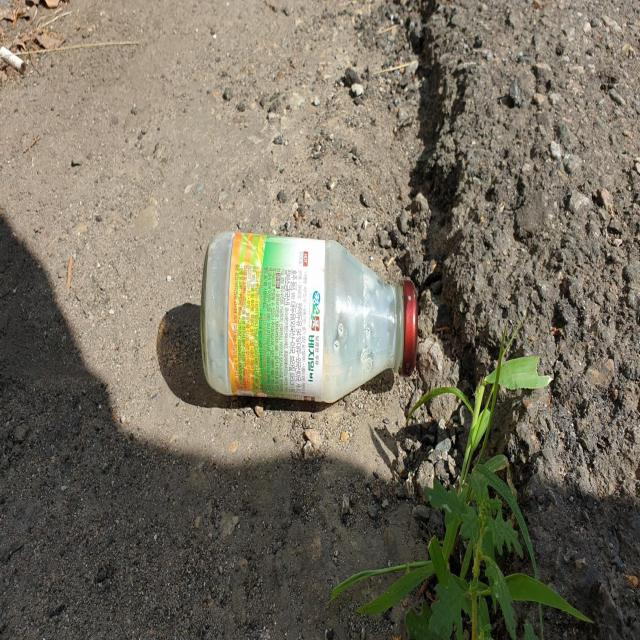glass: (201, 231, 418, 401)
